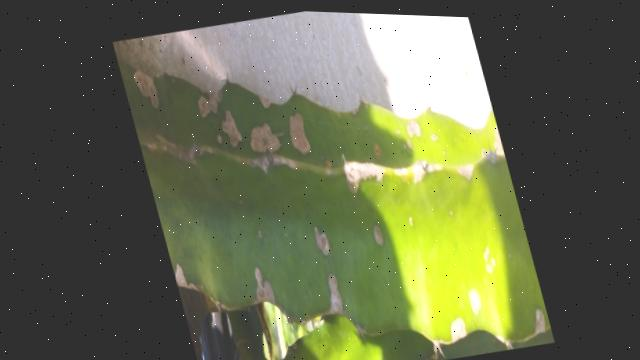stemcanker: (247, 117, 282, 156), (286, 109, 315, 156), (133, 66, 162, 111), (219, 108, 245, 151), (325, 272, 347, 317), (251, 266, 277, 304), (312, 223, 333, 258), (195, 96, 213, 121), (371, 223, 387, 248)
